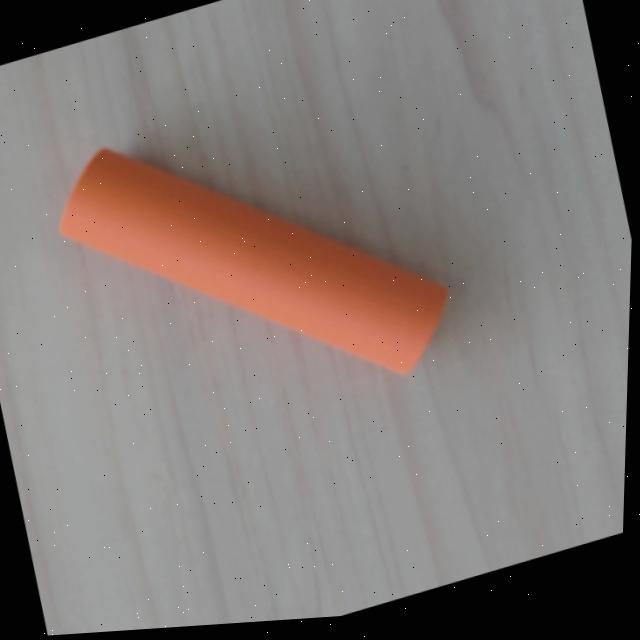Silinder-Jingga-10025: (54, 140, 451, 382)
